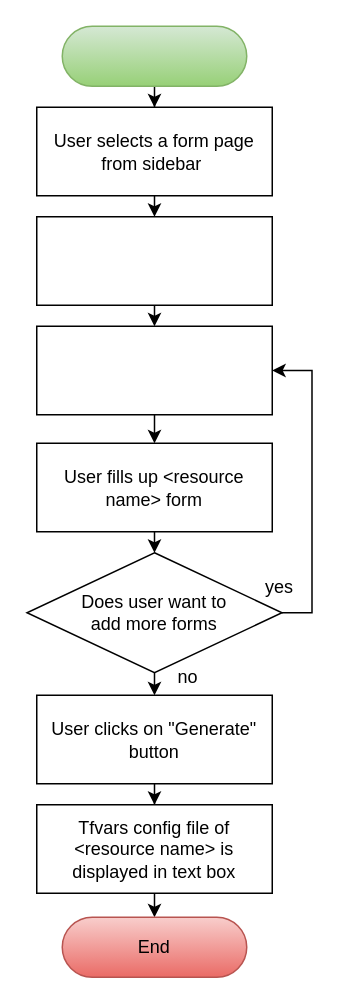
This 350x1004 diagram has some shape labels left out. Here are the shapes that lost their labels. From the top down, the centre of each, then its label:
(x=154, y=55): Start
(x=153, y=260): User fills in fields in settings Panel (Fill only once)
(x=153, y=370): User clicks on "Add New <resource name> form" button
